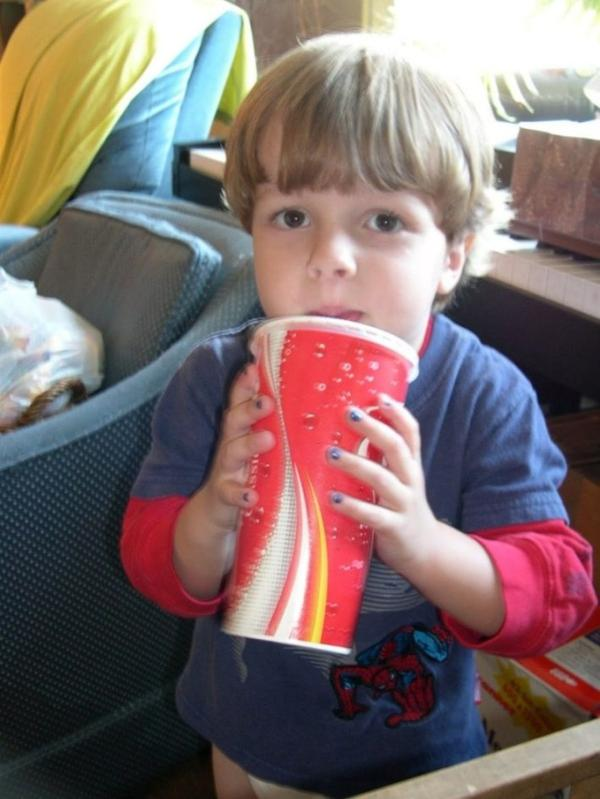person: (120, 30, 600, 799)
